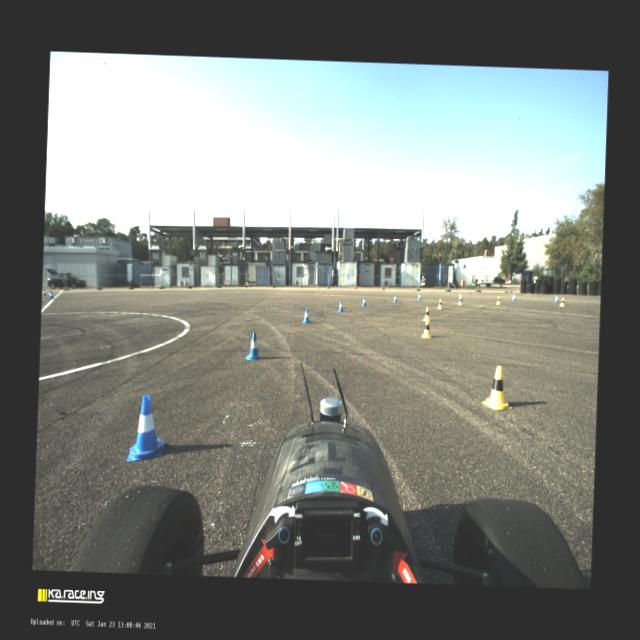blue_cone: (126, 394, 166, 464), (246, 330, 262, 360), (302, 308, 310, 322), (360, 296, 366, 306), (338, 300, 343, 312), (48, 290, 53, 298), (554, 294, 558, 302), (458, 292, 462, 300), (393, 294, 397, 302), (512, 293, 516, 300), (42, 290, 46, 296), (418, 293, 420, 300)
yellow_cone: (482, 365, 513, 410), (420, 320, 430, 338), (423, 306, 430, 321), (436, 298, 442, 308), (560, 296, 564, 306), (496, 296, 500, 304), (458, 297, 462, 305)
